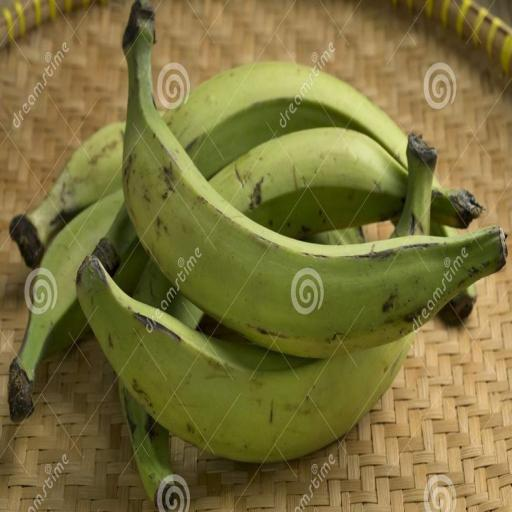banana-unripe: (22, 3, 504, 497)
